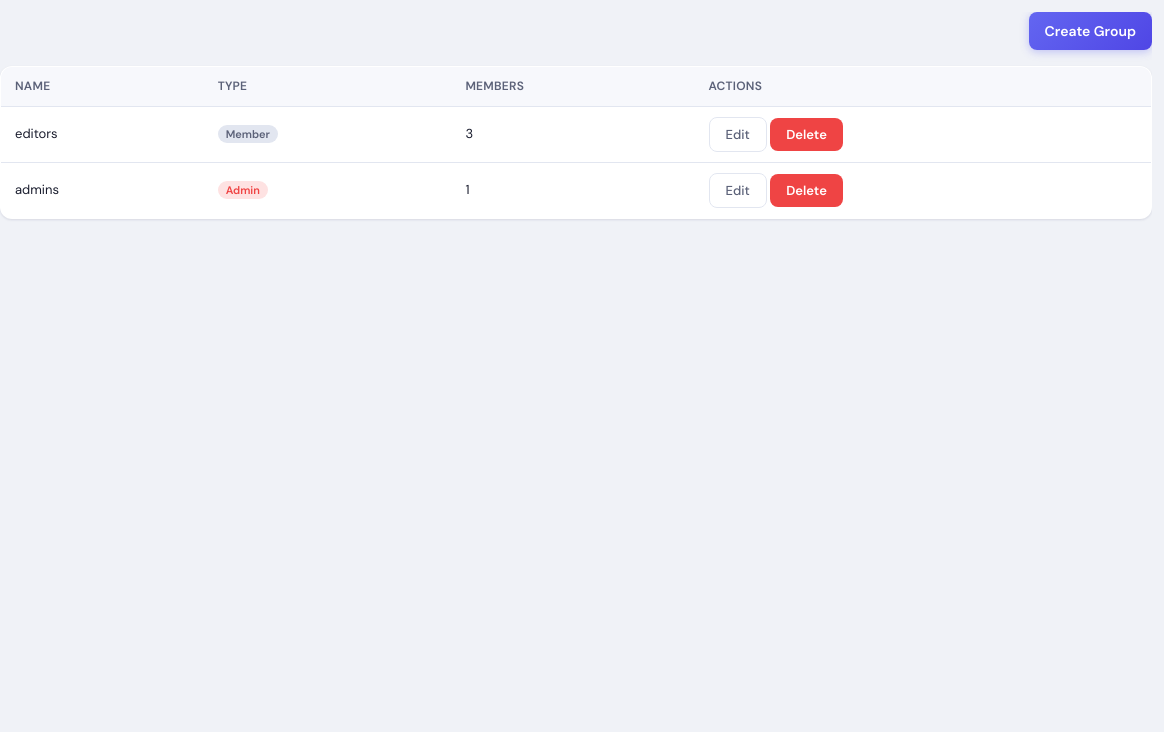
Test case: GroupsTab › shows conflict toast on 409 delete error
Check: the text "editors" is shown, box [0, 107, 204, 163]
Click the button "Delete" in the row of "editors" at {"x": 807, "y": 135}, box [770, 118, 843, 151]
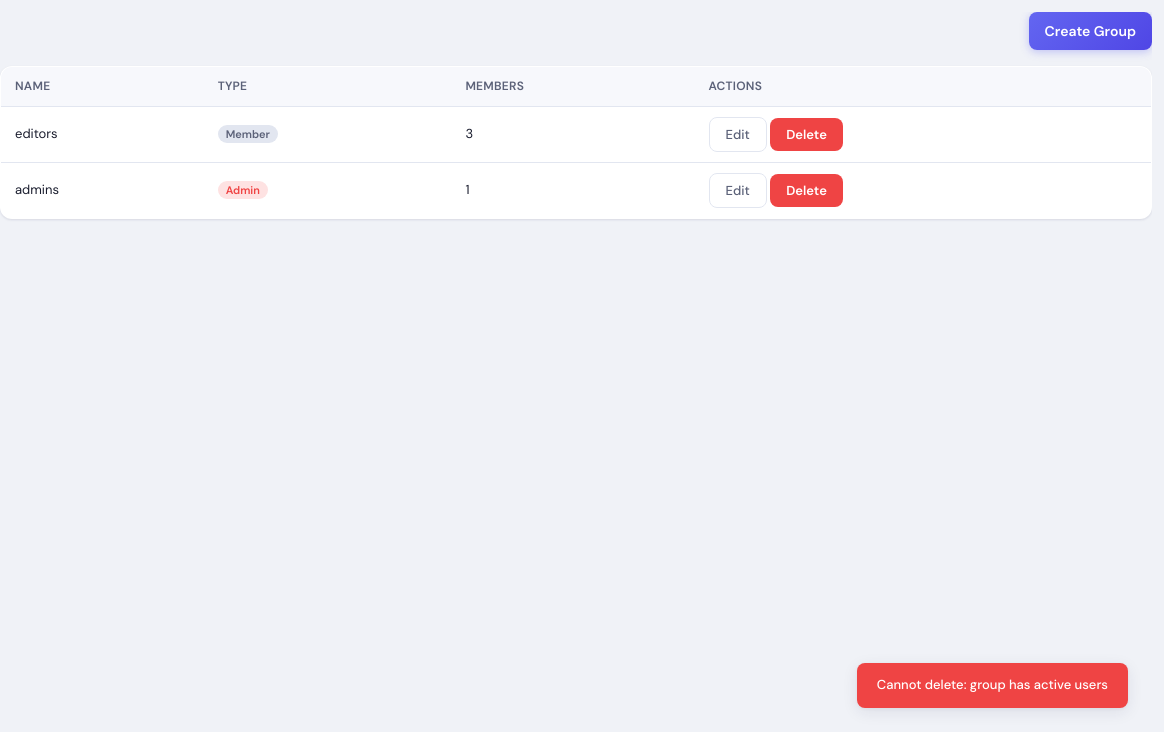
Check: the text "Cannot delete: group has active users" is shown, box [857, 663, 1128, 708]
